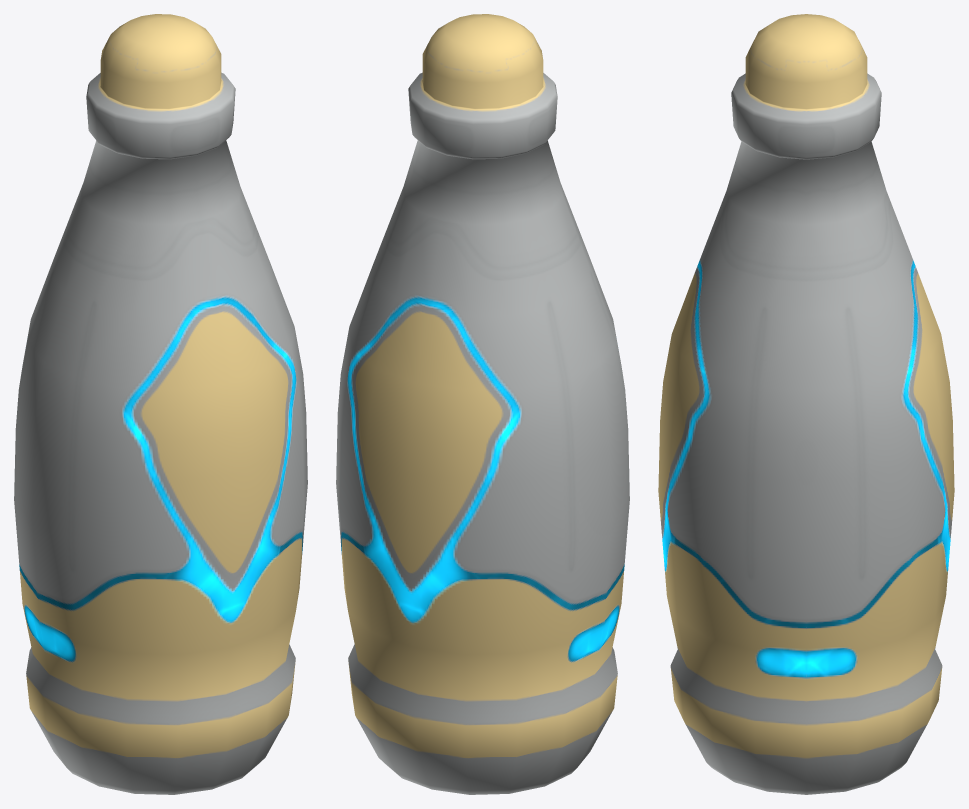
File: BarBottle02_3.FBX
3 views of the same model, side by side, from view 1: azimuth 30°, elevation 25°; view 2: azimuth 150°, elevation 25°; view 3: azimuth 270°, elevation 25° (orthographic).
Parts seen in each view (by area): view 1: BarBottle02_3; view 2: BarBottle02_3; view 3: BarBottle02_3.
Part boxes in pixels (x1,y1,x2,y2): BarBottle02_3: (14,14,307,794); BarBottle02_3: (336,14,629,794); BarBottle02_3: (658,14,954,794).
Size of what is drawn, in the model's own units: 0.1121 by 0.3047 by 0.1121.
